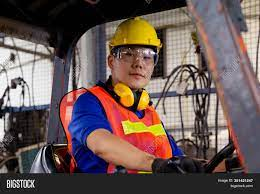Helmet: (105, 18, 169, 49)
Jacket: (59, 86, 171, 172)
